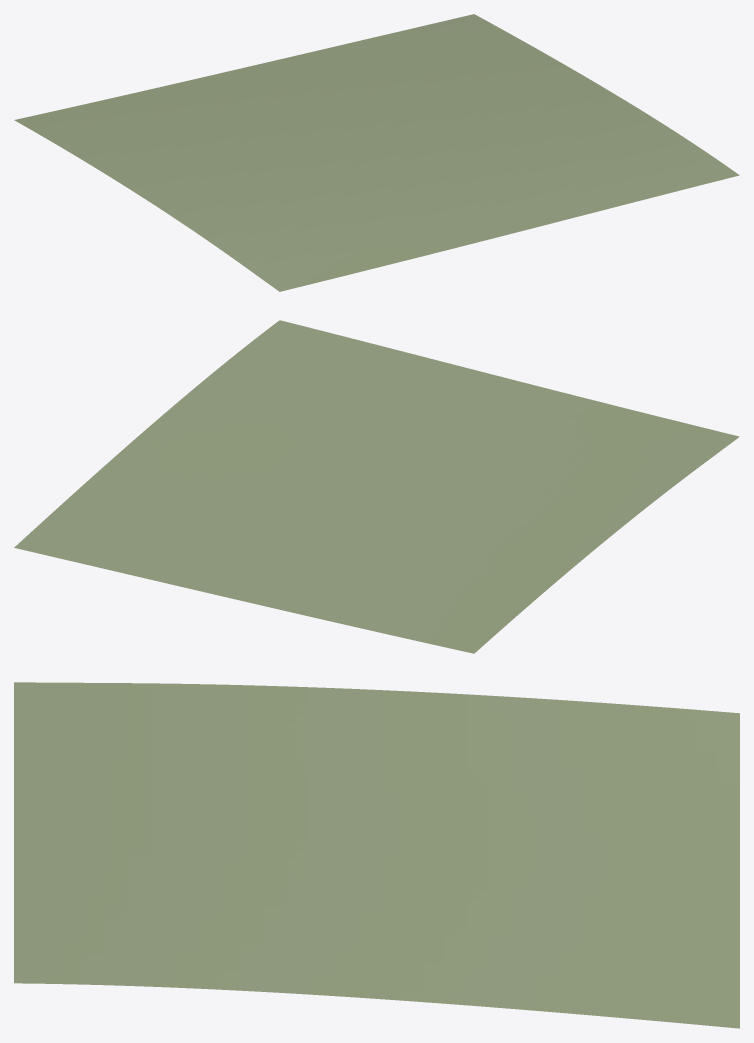
Rendered from desert-5-27.glb.
The picture shows the model from 3 angles, top to bottom: view 1: azimuth 30°, elevation 25°; view 2: azimuth 150°, elevation 25°; view 3: azimuth 270°, elevation 25°; orthographic projection. The views are drawn at different scales.
Visible parts, largest first — view 1: desert-5-27; view 2: desert-5-27; view 3: desert-5-27.
Boxes of the visible parts, x1,y1,x2,y2 form: desert-5-27: [14, 14, 739, 291]; desert-5-27: [14, 320, 739, 653]; desert-5-27: [14, 682, 739, 1028].
Bounding box in the file's own units: 512 × 35.22 × 512.
